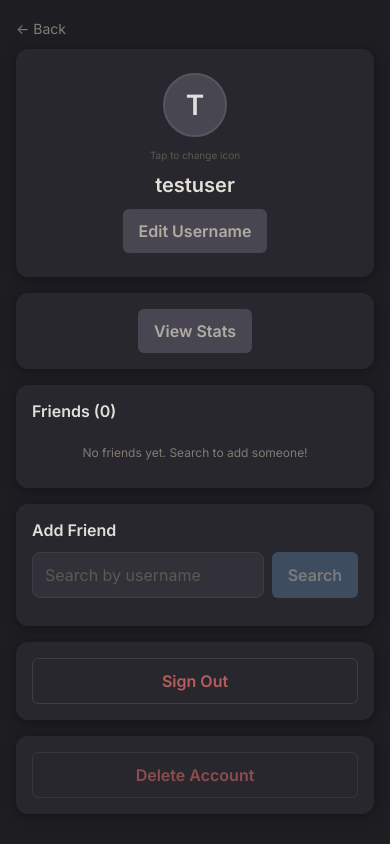
Test case: ProfileScreen — delete account › shows confirmation dialog when Delete Account is clicked
The image size is (390, 844).
Click the button "Delete Account" at (195, 775), box left=32, top=752, right=358, bottom=798
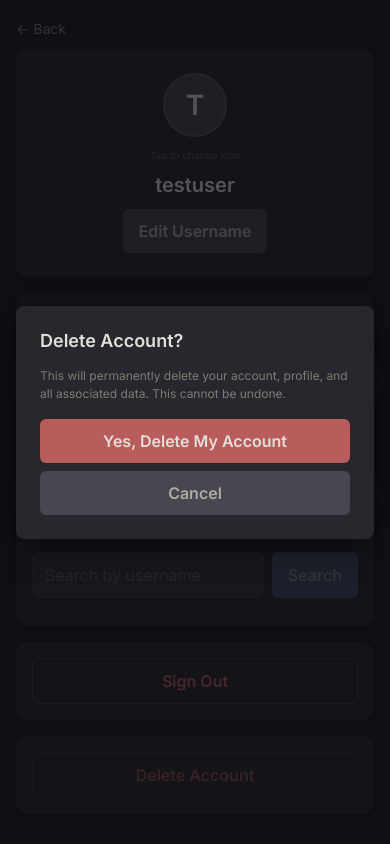
Check: the text "This will permanently delete" is shown, box left=40, top=368, right=348, bottom=400
